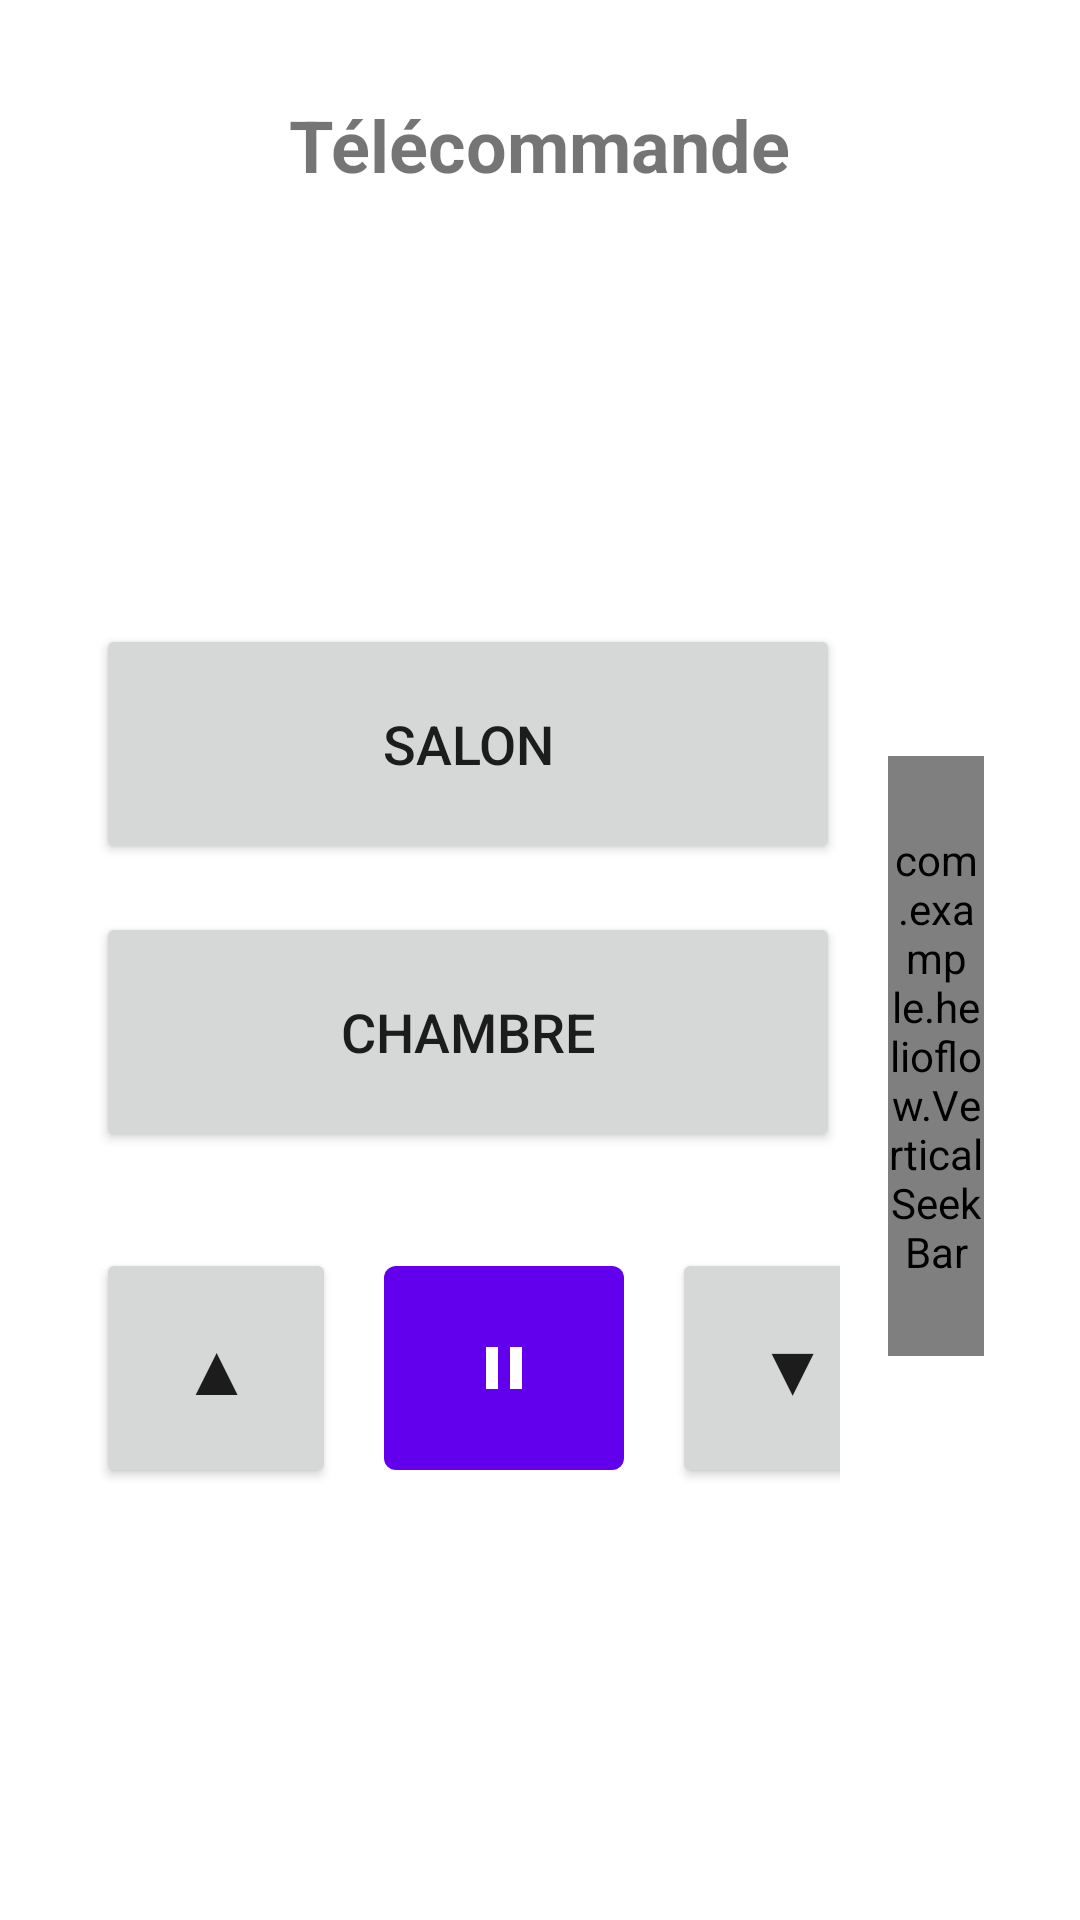

Point at icon controls on the screen. Image size 1080px x 1920px, points as (x=x, y=y).
pause: (x=504, y=1368)
